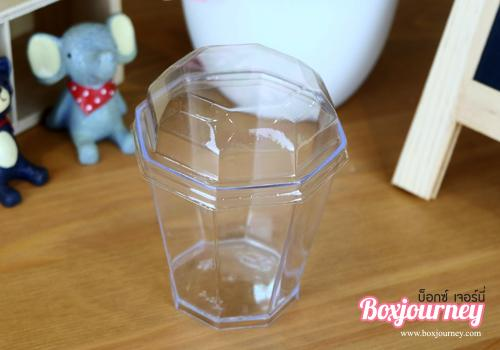plastic_glass: (118, 28, 372, 348)
